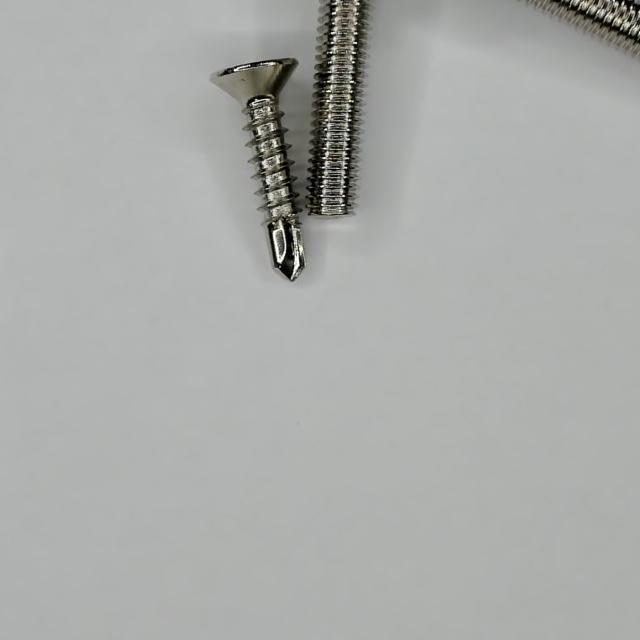Screw: (211, 58, 305, 280), (307, 0, 368, 216), (529, 0, 640, 54)
